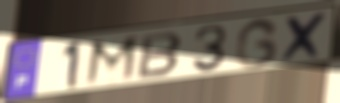1: (60, 39, 84, 92)
3: (191, 24, 229, 74)
B: (135, 31, 185, 80)
G: (232, 16, 281, 70)
M: (82, 33, 142, 89)
X: (279, 10, 332, 65)
